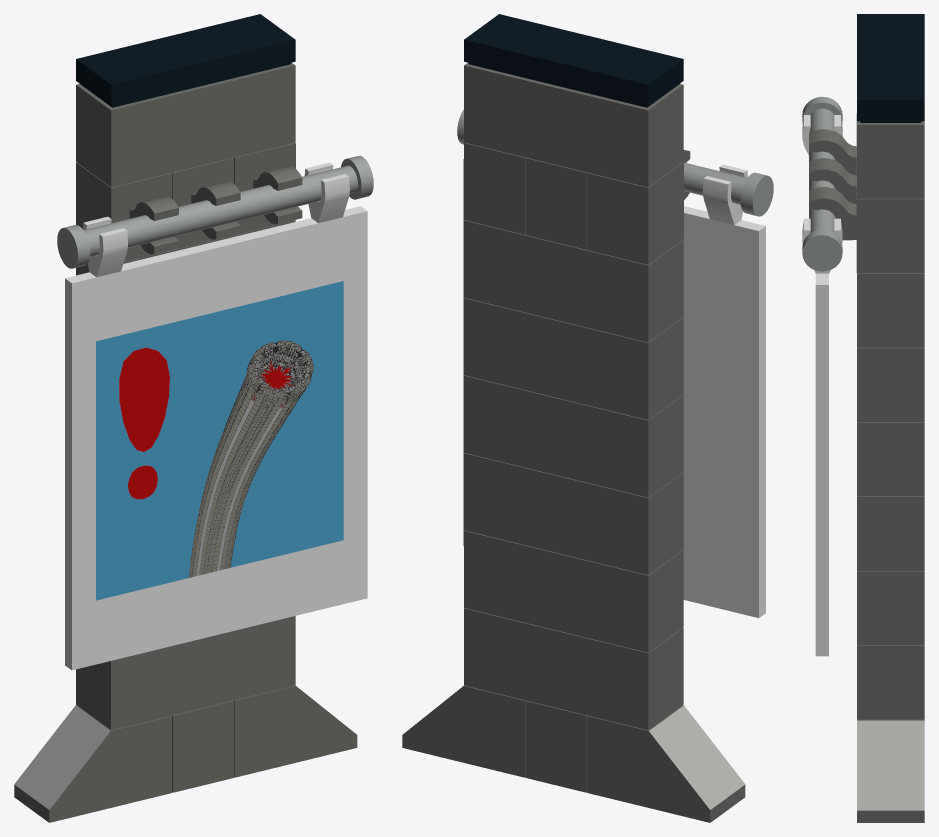
Rendered from Sign.fbx.
3 views of the same model, side by side, from view 1: azimuth 30°, elevation 25°; view 2: azimuth 150°, elevation 25°; view 3: azimuth 270°, elevation 25° (orthographic). The views are drawn at different scales.
Visible parts, largest first — view 1: Flag6x4, Brick1x3_1, Brick1x3_7, 2x1Slope2, Tile1x3, Bar, 2x1Slope1, Brick1x1Clip2.001, Brick1x1, Brick1x1Clip2.002, Brick1x1Clip2; view 2: Flag6x4, Brick1x3_1, Brick1x3_2, Brick1x3_3, Brick1x3_5, Brick1x3_7, Brick1x3_4, Brick1x3_6, 2x1Slope2, Tile1x3, Brick1x1Clip2.001, 2x1Slope1 (+4 smaller); view 3: Tile1x3, 2x1Slope1, Brick1x1Clip2.002, Flag6x4, Brick1x3_1, Brick1x3_2, Brick1x3_3, Brick1x3_4, Brick1x3_5, Brick1x3_6, Brick1x3_7, Bar (+2 smaller).
Boxes of the visible parts, left/top/right/bottom form: Flag6x4: left=65, top=162, right=367, bottom=670; Brick1x3_1: left=76, top=62, right=295, bottom=187; Brick1x3_7: left=76, top=616, right=295, bottom=730; 2x1Slope2: left=14, top=705, right=171, bottom=822; Tile1x3: left=76, top=14, right=295, bottom=107; Bar: left=57, top=155, right=373, bottom=268; 2x1Slope1: left=233, top=685, right=357, bottom=777; Brick1x1Clip2.001: left=76, top=162, right=178, bottom=261; Brick1x1: left=172, top=700, right=233, bottom=792; Brick1x1Clip2.002: left=233, top=142, right=302, bottom=234; Brick1x1Clip2: left=172, top=157, right=240, bottom=249; Flag6x4: left=463, top=159, right=765, bottom=617; Brick1x3_1: left=464, top=62, right=683, bottom=187; Brick1x3_2: left=464, top=220, right=683, bottom=342; Brick1x3_3: left=464, top=297, right=683, bottom=419; Brick1x3_5: left=464, top=453, right=683, bottom=574; Brick1x3_7: left=464, top=608, right=683, bottom=730; Brick1x3_4: left=464, top=375, right=683, bottom=497; Brick1x3_6: left=464, top=530, right=683, bottom=652; 2x1Slope2: left=587, top=705, right=745, bottom=822; Tile1x3: left=464, top=14, right=683, bottom=107; Brick1x1Clip2.001: left=587, top=150, right=690, bottom=264; 2x1Slope1: left=402, top=685, right=525, bottom=777; Tile1x3: left=857, top=14, right=924, bottom=122; 2x1Slope1: left=857, top=719, right=924, bottom=822; Brick1x1Clip2.002: left=809, top=171, right=924, bottom=273; Flag6x4: left=802, top=115, right=842, bottom=656; Brick1x3_1: left=857, top=121, right=924, bottom=198; Brick1x3_2: left=857, top=273, right=924, bottom=347; Brick1x3_3: left=857, top=347, right=924, bottom=421; Brick1x3_4: left=857, top=422, right=924, bottom=496; Brick1x3_5: left=857, top=496, right=924, bottom=570; Brick1x3_6: left=857, top=571, right=924, bottom=645; Brick1x3_7: left=857, top=645, right=924, bottom=719; Bar: left=802, top=96, right=842, bottom=271.
Size of the model in its own units: 81.94 by 184 by 29.37.
Materials: 6 (1 with a texture image).
